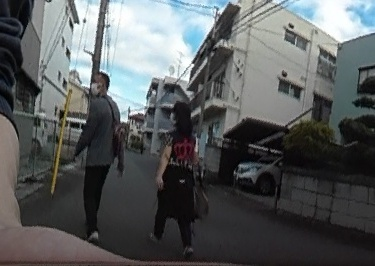person: (151, 98, 201, 260), (78, 71, 125, 240)
